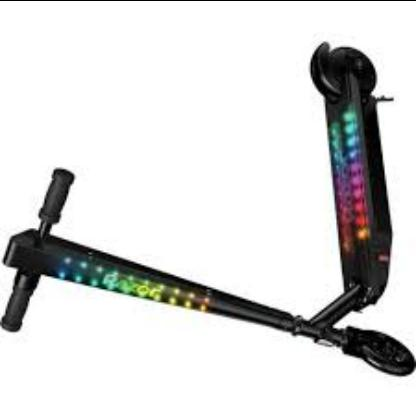bike: (1, 41, 415, 380)
